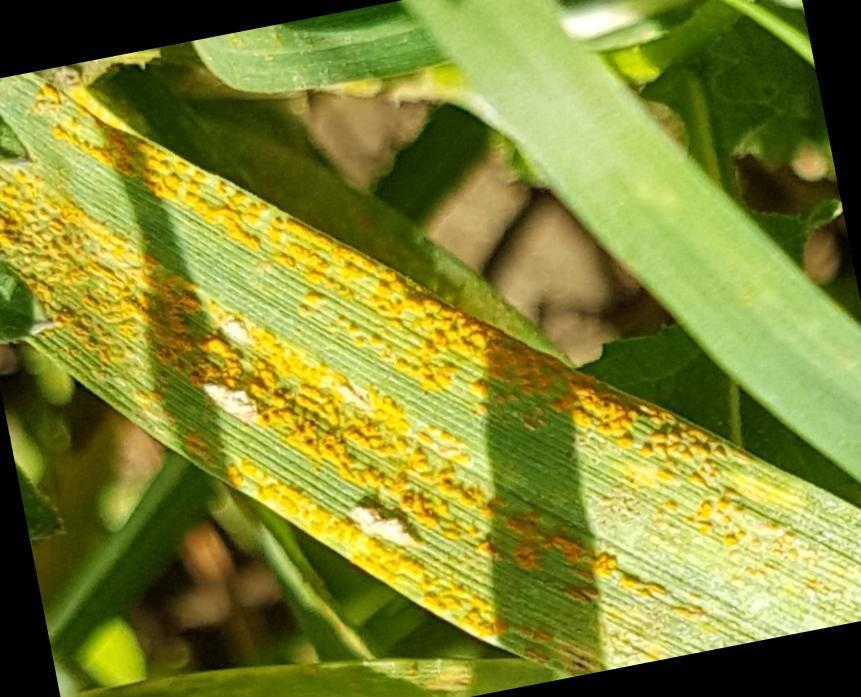Wheat: (174, 276, 719, 644), (148, 144, 502, 372), (492, 332, 758, 514), (0, 154, 157, 368)
